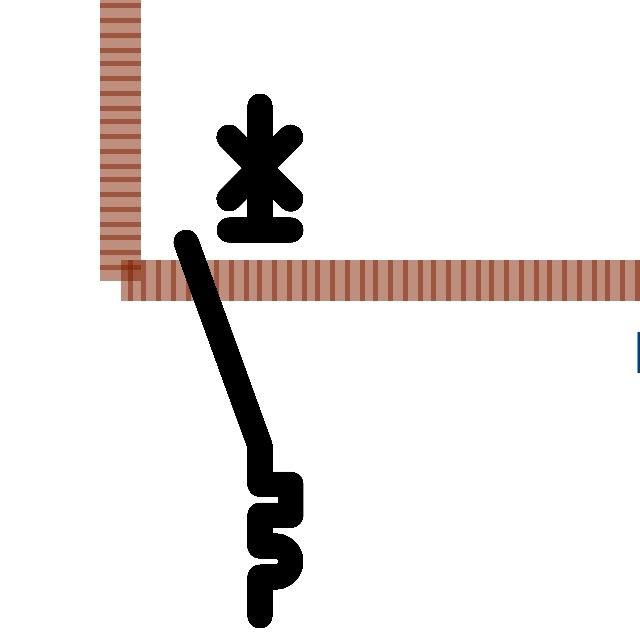interruptor_termomagnetico: (173, 93, 304, 629)
